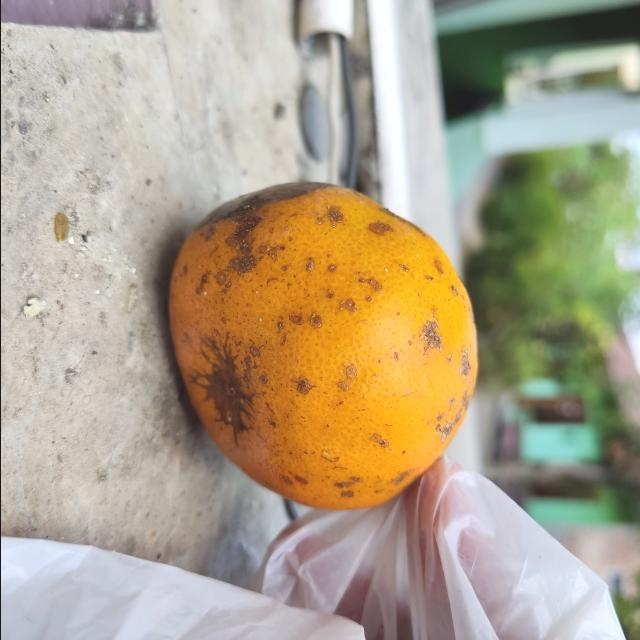agrume: (166, 180, 478, 512)
